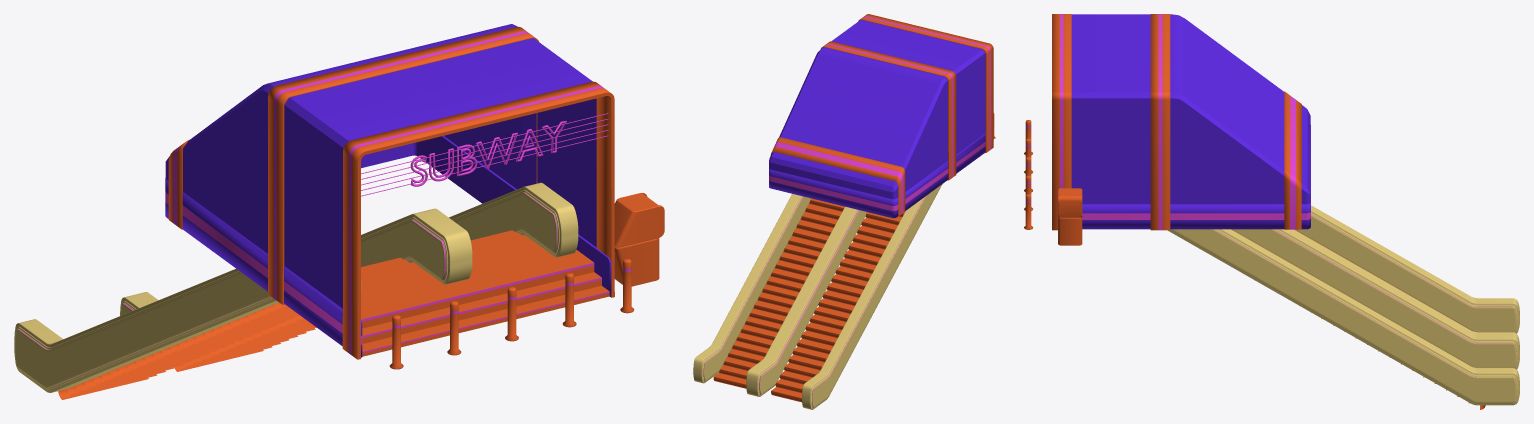
File: METRO ENTRY.fbx
The picture shows the model from 3 angles, left to right: view 1: azimuth 30°, elevation 25°; view 2: azimuth 150°, elevation 25°; view 3: azimuth 270°, elevation 25°; orthographic projection. The views are drawn at different scales.
Visible parts, largest first — view 1: glass, stairs1, stairs, stairs2, automat, stop, Text, text 1; view 2: glass, stairs1, stairs2; view 3: glass, stairs1, automat, stop.
Part boxes in pixels (box(x1,y1,x2,y2)): glass: box(165, 24, 614, 359); stairs1: box(14, 182, 578, 392); stairs: box(361, 235, 609, 356); stairs2: box(58, 230, 521, 399); automat: box(614, 193, 664, 286); stop: box(389, 258, 634, 369); Text: box(410, 120, 566, 186); text 1: box(361, 113, 608, 196); glass: box(769, 14, 993, 218); stairs1: box(693, 184, 942, 409); stairs2: box(713, 198, 905, 402); glass: box(1052, 14, 1310, 230); stairs1: box(1168, 205, 1519, 405); automat: box(1058, 188, 1082, 245); stop: box(1024, 120, 1033, 229).
Bounding box in the file's own units: 2552 × 3845 × 5337.
